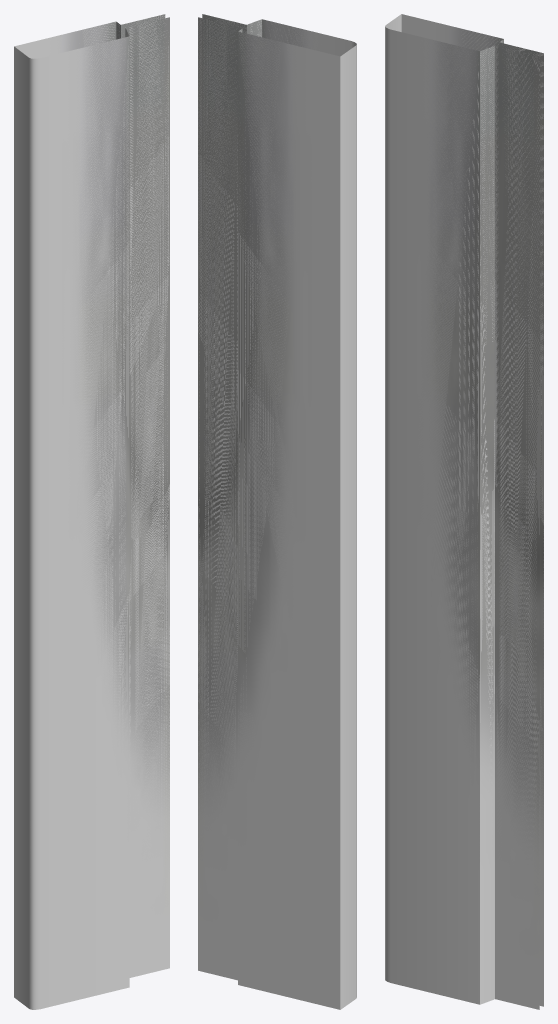
Rendered from original-32.obj.
3 renders of one model, left to right at view 1: azimuth 30°, elevation 25°; view 2: azimuth 150°, elevation 25°; view 3: azimuth 330°, elevation 25°, orthographic.
Visible parts, largest first — view 1: LT_21_CL1/LT_21_CL/mesh26/mesh26-geometry#mesh26-geometry; view 2: LT_21_CL1/LT_21_CL/mesh26/mesh26-geometry#mesh26-geometry; view 3: LT_21_CL1/LT_21_CL/mesh26/mesh26-geometry#mesh26-geometry.
Boxes of the visible parts, x1=… form: LT_21_CL1/LT_21_CL/mesh26/mesh26-geometry#mesh26-geometry: x1=14, y1=14, x2=169, y2=1009; LT_21_CL1/LT_21_CL/mesh26/mesh26-geometry#mesh26-geometry: x1=198, y1=14, x2=356, y2=1009; LT_21_CL1/LT_21_CL/mesh26/mesh26-geometry#mesh26-geometry: x1=385, y1=14, x2=543, y2=1009.
Bounding box in the file's own units: 0.124 × 0.7661 × 0.0271.
